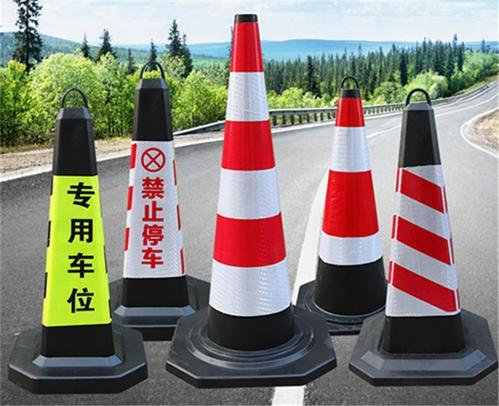cone_barrel: (199, 16, 297, 362), (367, 88, 476, 375), (23, 99, 131, 383), (111, 71, 198, 332), (301, 88, 391, 324)
